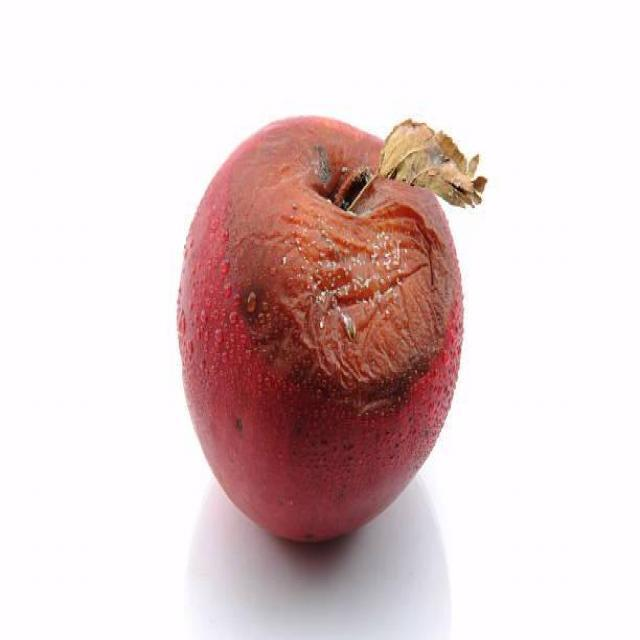Apple: (185, 120, 457, 548)
